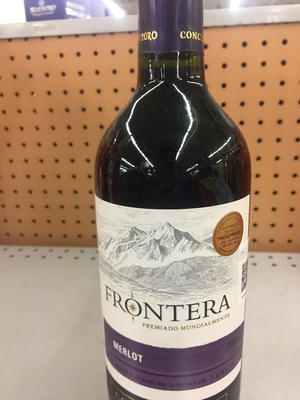frontera merlot: (92, 28, 243, 400)
